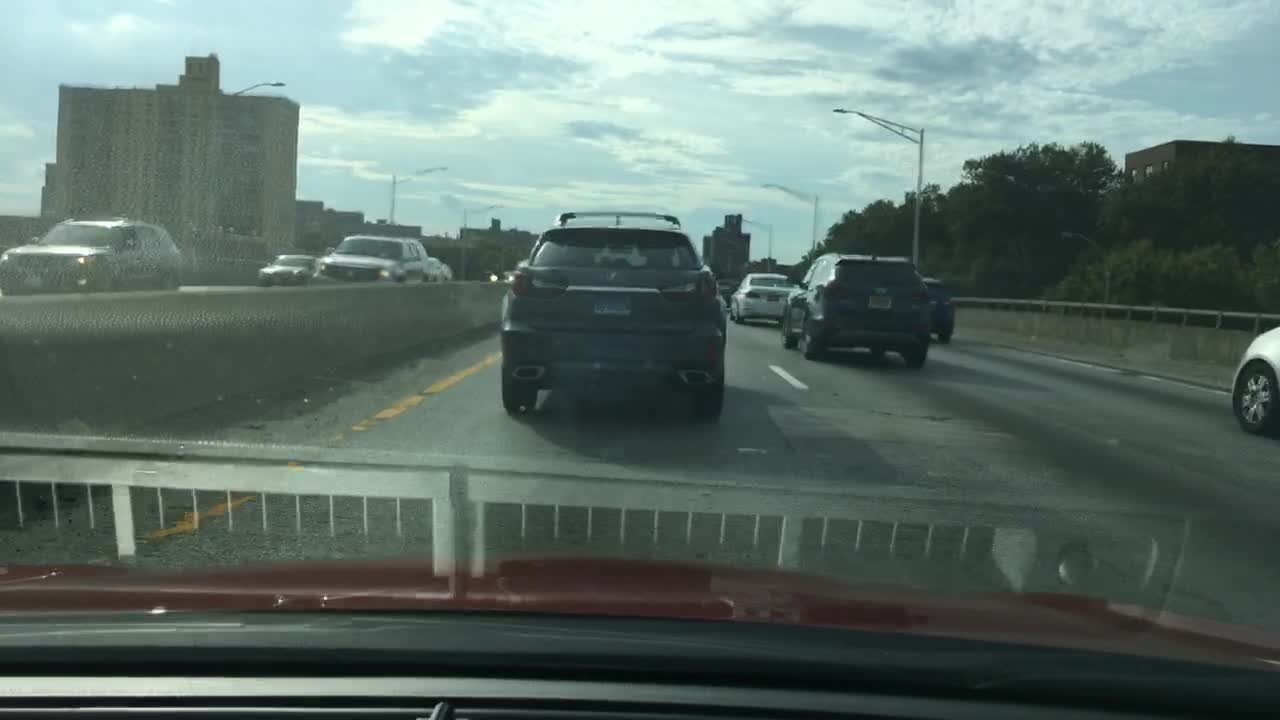car: (496, 207, 729, 421), (781, 244, 932, 370), (0, 212, 186, 293), (1232, 313, 1279, 437), (314, 236, 429, 284), (728, 274, 793, 325), (923, 274, 955, 345), (259, 256, 322, 284), (426, 255, 453, 281), (719, 275, 740, 304), (482, 268, 521, 282)
